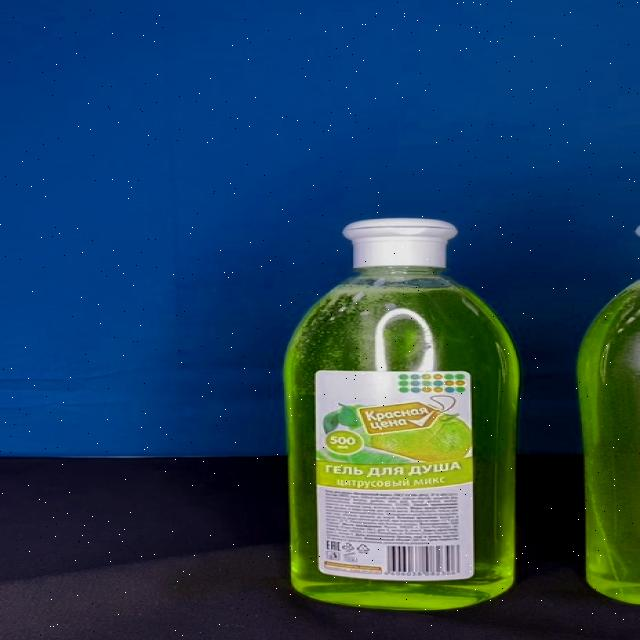Bottle: (283, 216, 522, 611)
Cap: (343, 218, 458, 268)
